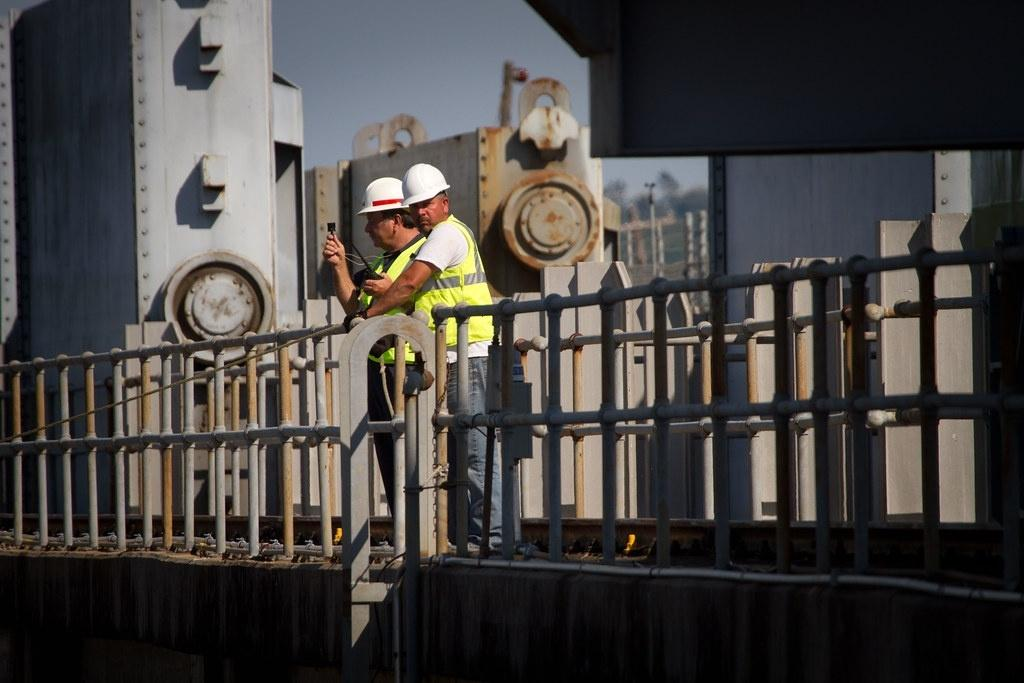capacete: (364, 172, 408, 228), (405, 160, 453, 205)
pessoa: (403, 164, 514, 562), (322, 170, 426, 561)
uniforme seguranca: (415, 221, 502, 348), (354, 246, 431, 367)
